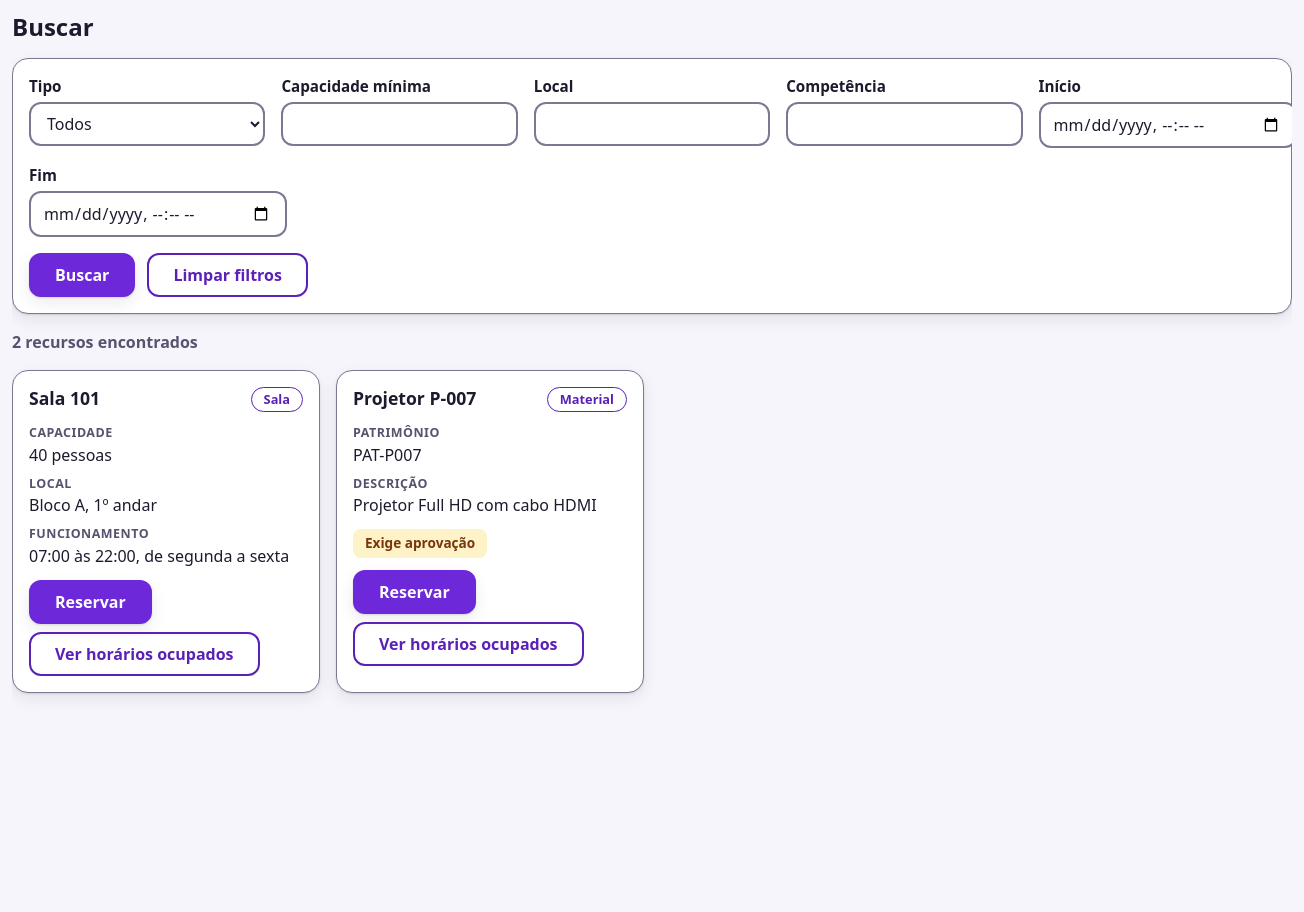
Scenario: PaginaDeBusca: ações de cada recurso › Ver horários ocupados abre a lista de intervalos, sem dono, na hora do campus
Expected: the text "2 recursos encontrados" is shown, [12,331,198,353]
Click the button named "Ver horários ocupados de Sala 101" at (144, 654), box [29,632,260,676]
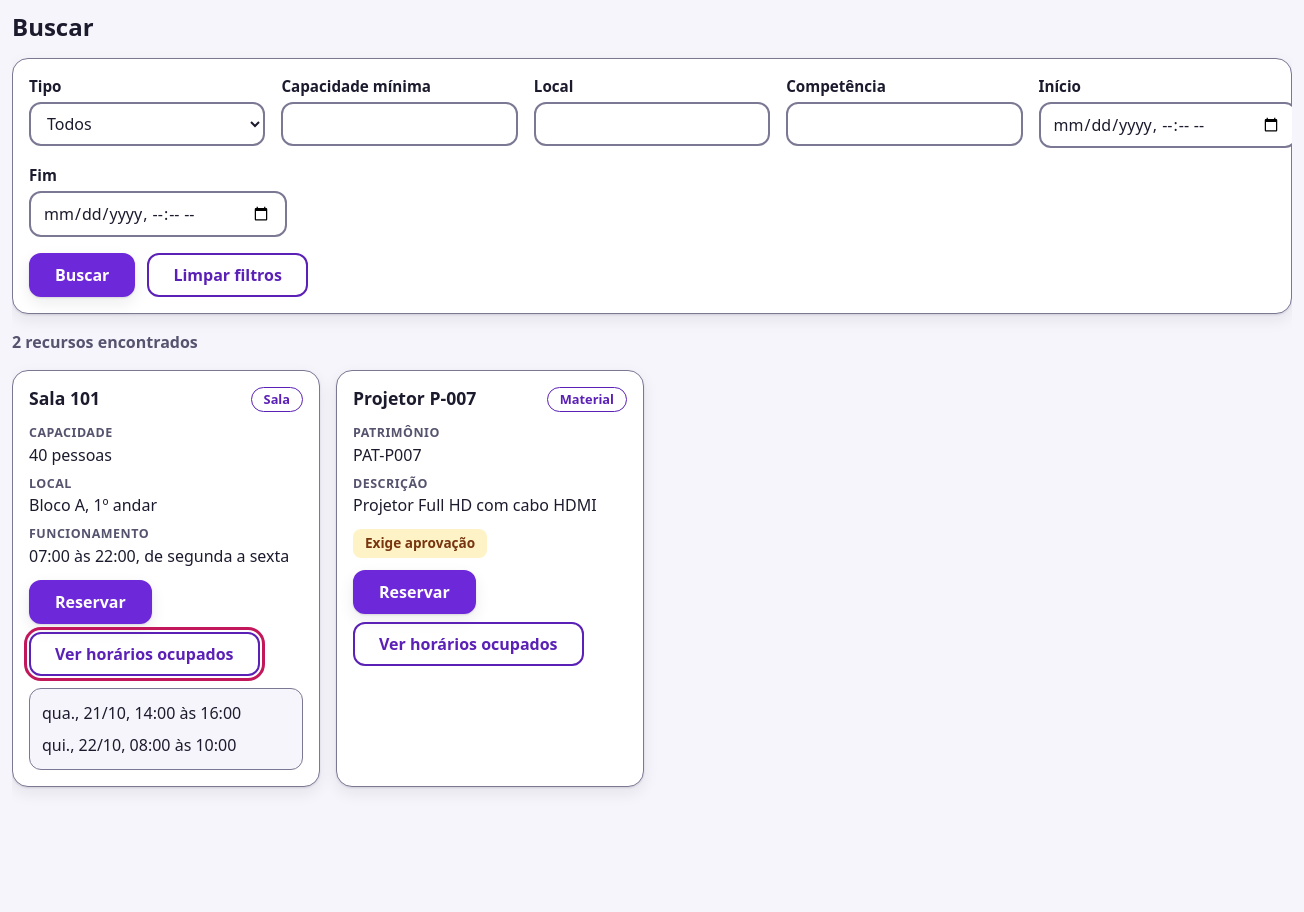
Expected: the list item "qua., 21/10, 14:00 às 16:00" is shown, [42,702,241,724]
Expected: the list item "qui., 22/10, 08:00 às 10:00" is shown, [42,734,236,756]
